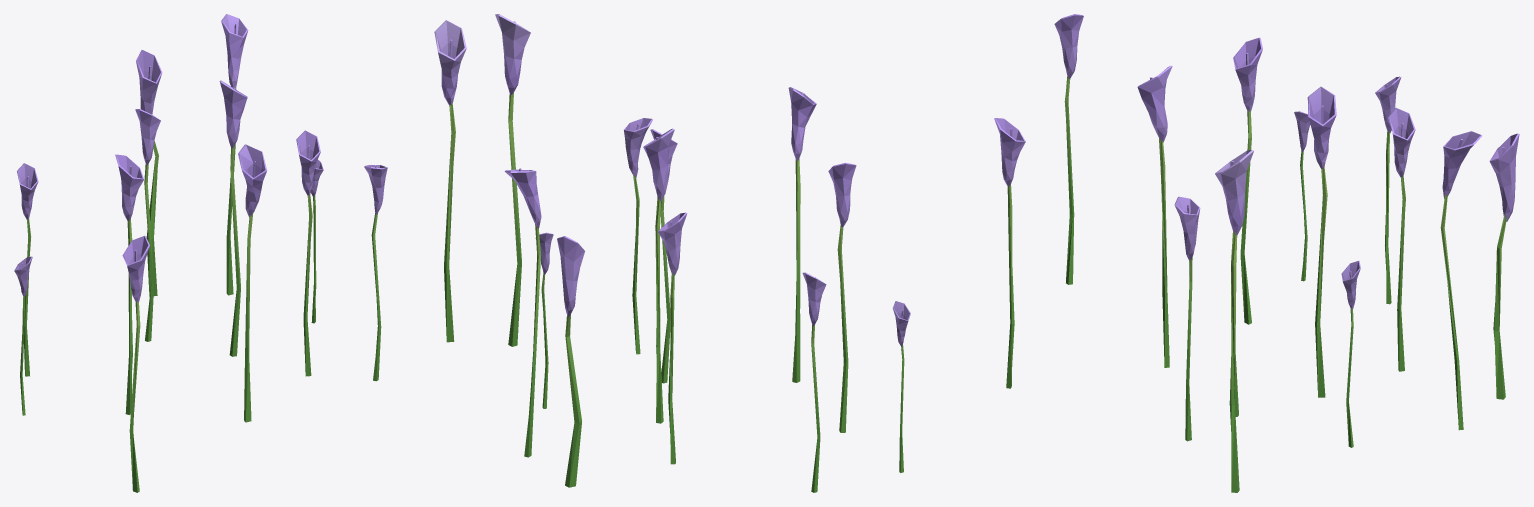
File: flower_lavender.glb
3 views of the same model, side by side, from view 1: azimuth 30°, elevation 25°; view 2: azimuth 150°, elevation 25°; view 3: azimuth 270°, elevation 25° (orthographic). The views are drawn at different scales.
Parts seen in each view (by area): view 1: Flower 5_2_C; view 2: Flower 5_2_C; view 3: Flower 5_2_C.
Part boxes in pixels (box(x1,y1,x2,y2)): Flower 5_2_C: box(14, 14, 466, 492); Flower 5_2_C: box(495, 14, 1025, 492); Flower 5_2_C: box(1054, 14, 1519, 492).
Bounding box in the file's own units: 0.5006 × 0.36 × 0.4419.
1 material, 1 textured.
